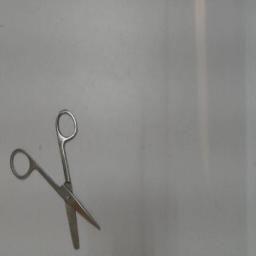Dressing Scissors: (4, 104, 106, 254)
